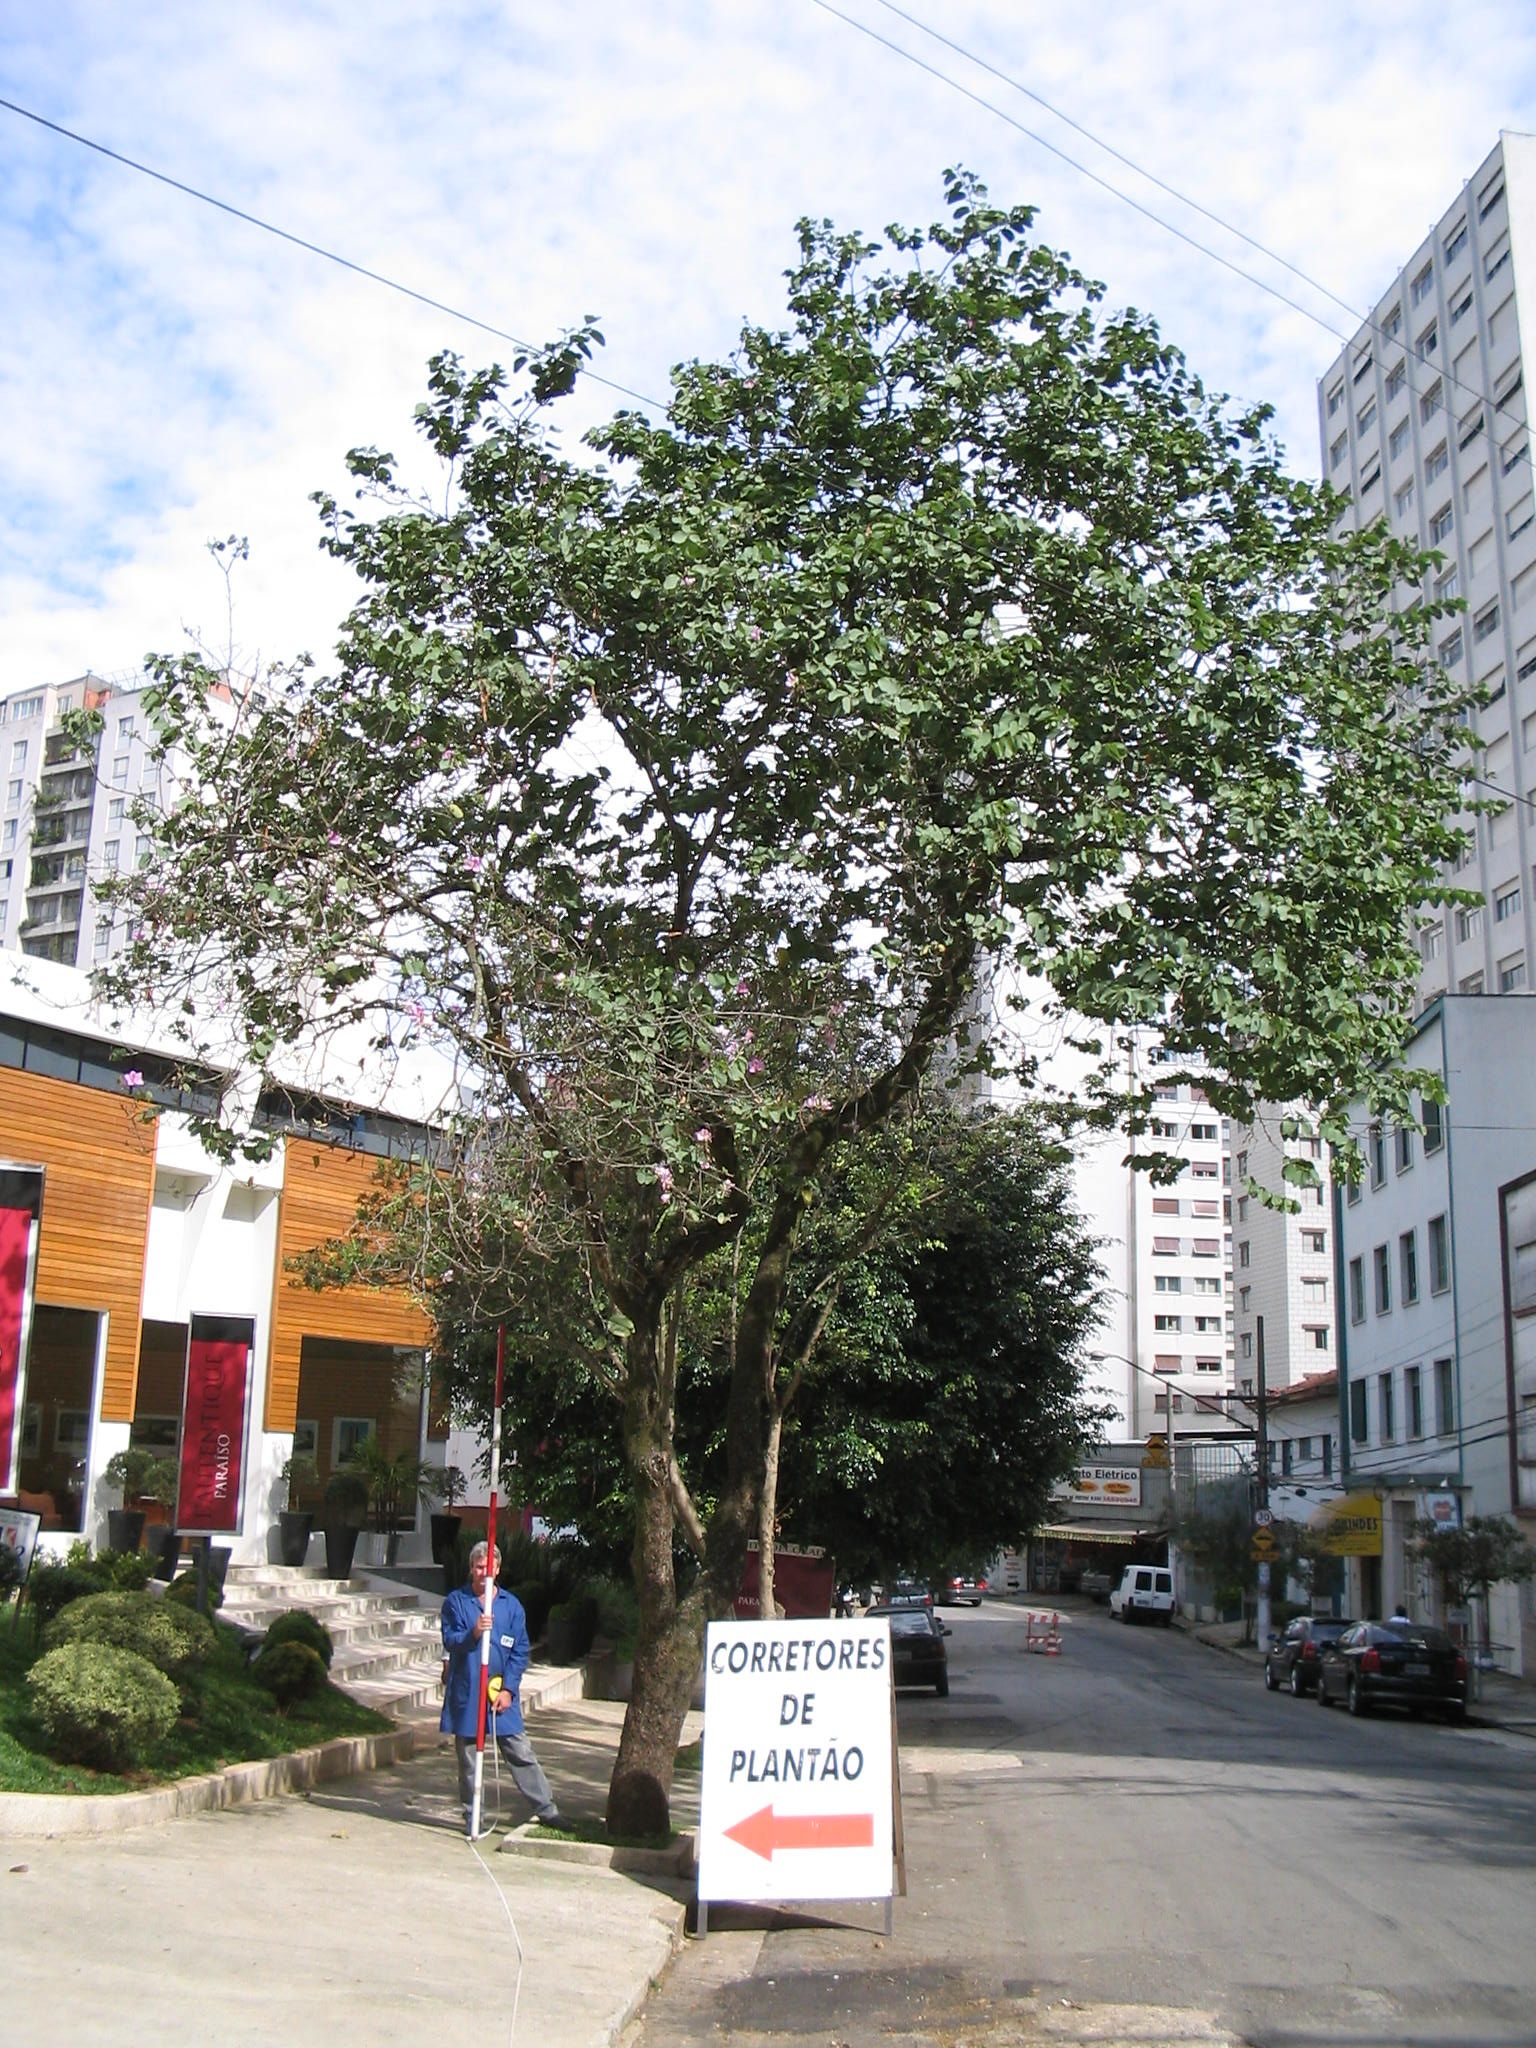crown: (69, 163, 1496, 1192)
stem: (591, 1624, 724, 1837)
stick: (457, 1321, 524, 1840)
tree: (65, 158, 1509, 1840)
